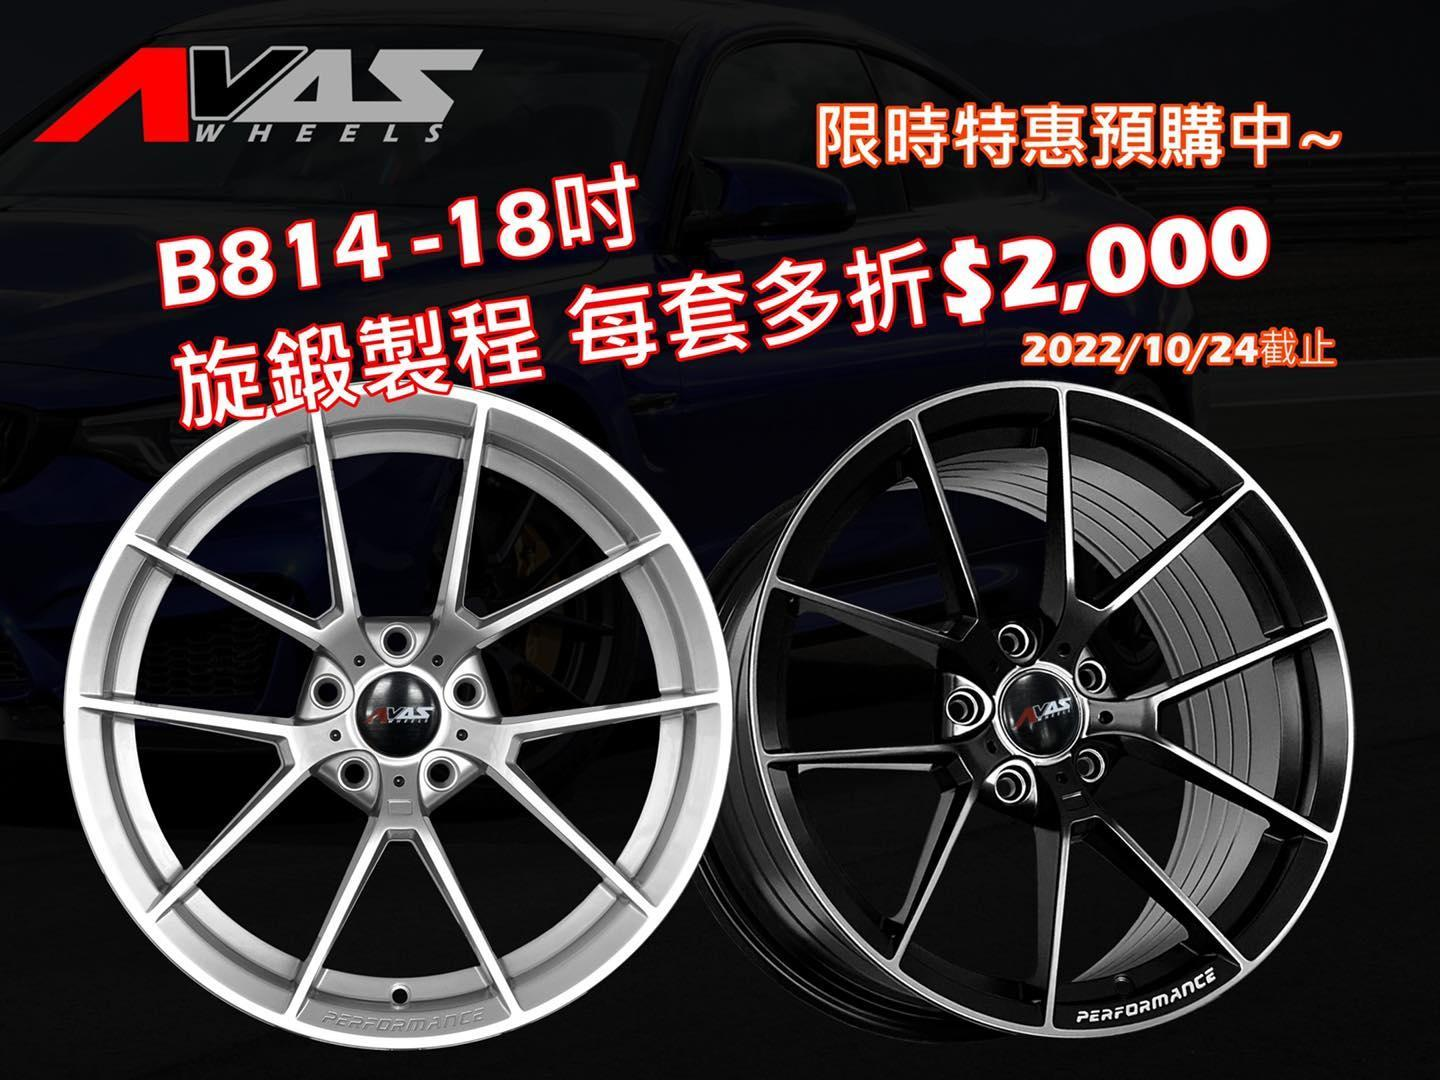hole: (379, 622, 420, 660), (947, 686, 982, 727), (994, 767, 1030, 803), (334, 759, 372, 792), (451, 675, 486, 709), (997, 622, 1030, 658), (1077, 746, 1109, 784), (425, 759, 461, 791), (311, 676, 345, 708), (1079, 660, 1108, 690)
